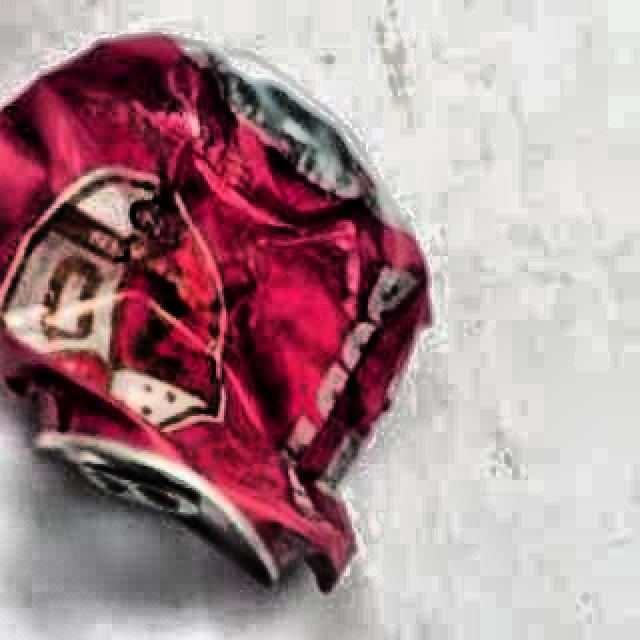metal: (0, 24, 436, 608)
